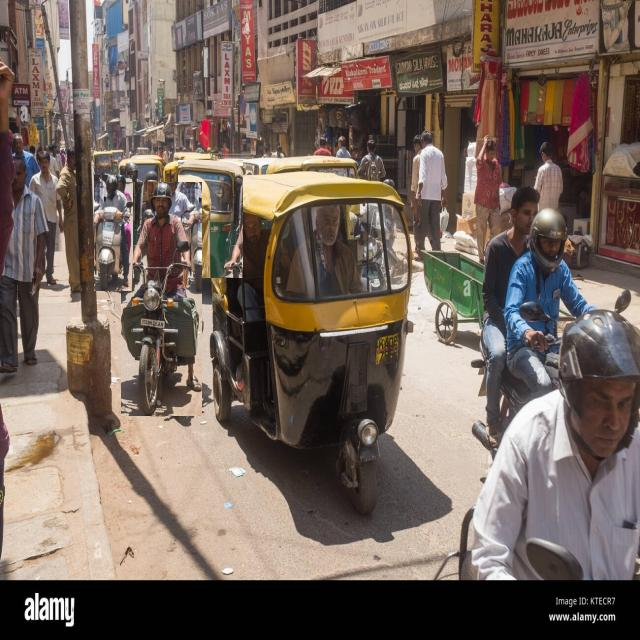autorickshaw: (210, 172, 411, 512), (179, 160, 243, 278)
motorcycle: (121, 183, 202, 416), (95, 175, 133, 291)
